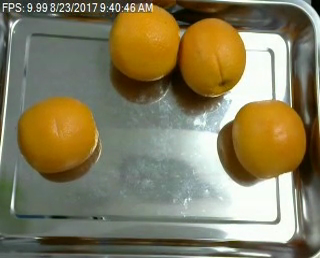Orange: (17, 95, 98, 173), (231, 100, 306, 180), (107, 3, 178, 80), (178, 17, 246, 97)
